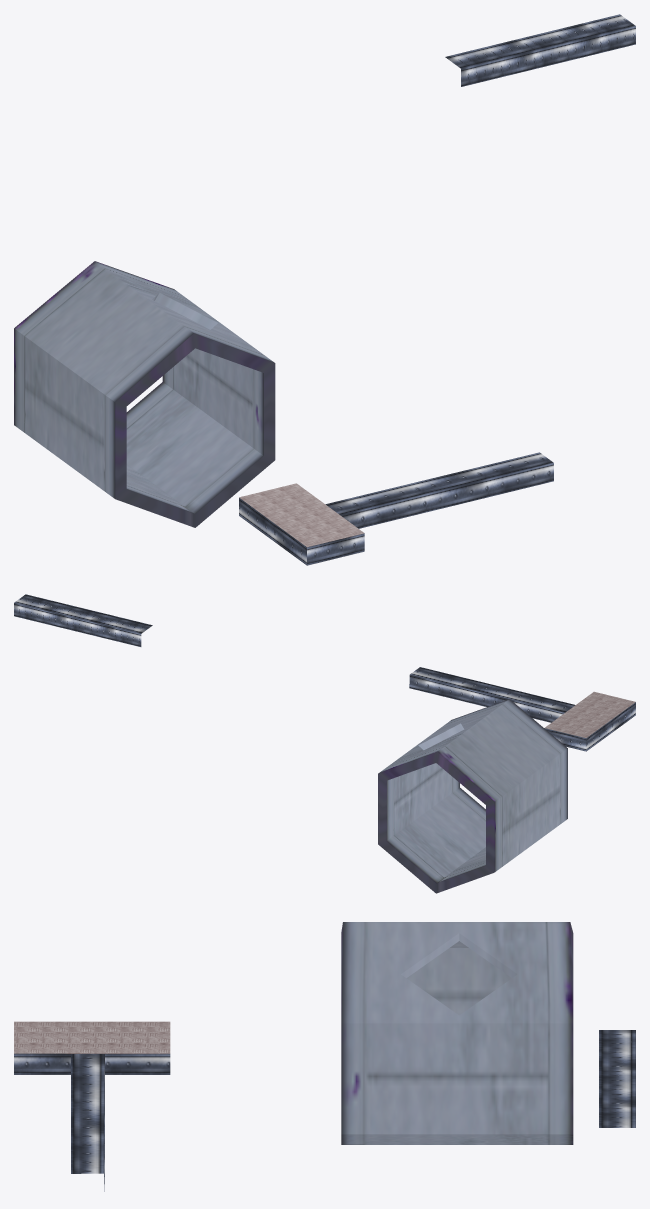
3 renders of one model, top to bottom at view 1: azimuth 30°, elevation 25°; view 2: azimuth 150°, elevation 25°; view 3: azimuth 270°, elevation 25°, orthographic. The views are drawn at different scales.
Parts seen in each view (by area): view 1: Object05; view 2: Object05; view 3: Object05.
Boxes of the visible parts, bbox=[...] form: Object05: bbox=[14, 14, 635, 565]; Object05: bbox=[14, 594, 635, 893]; Object05: bbox=[14, 922, 635, 1191].
Size of the model in its own units: 2551 by 1097 by 1892.
Materials: 3 (3 with a texture image).
